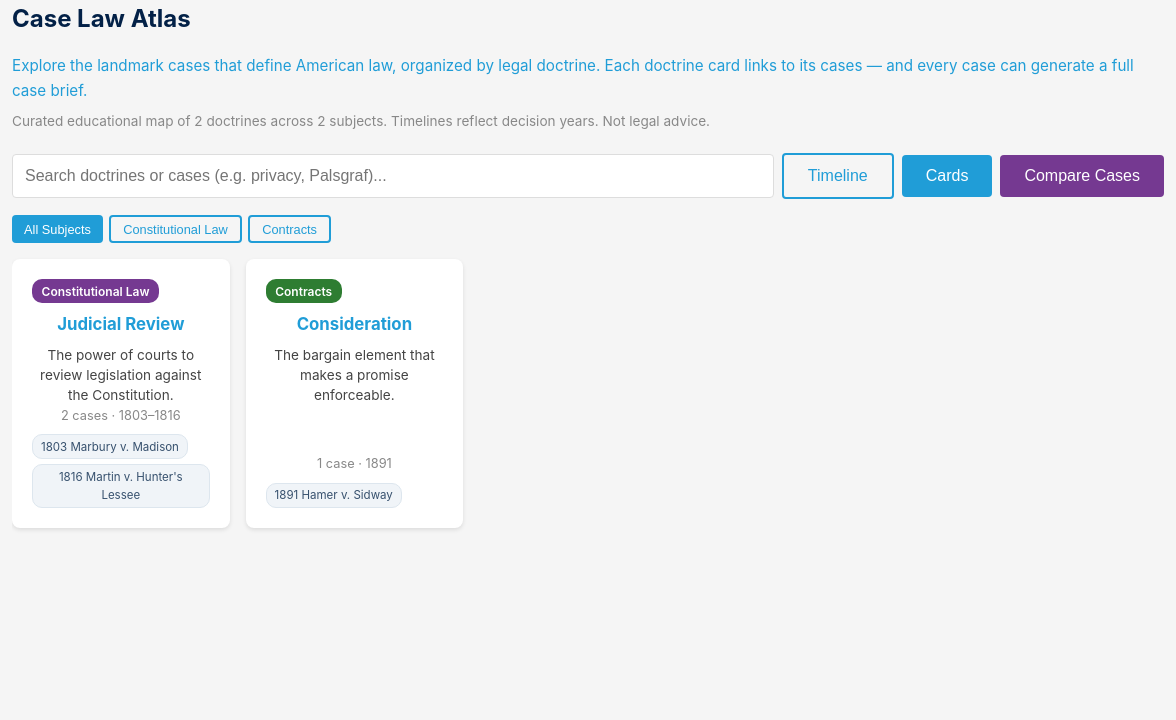
DoctrineExplorerView › filters doctrines by subject
Click the button "Contracts".
click(290, 229)  # box 248,215 -> 331,243
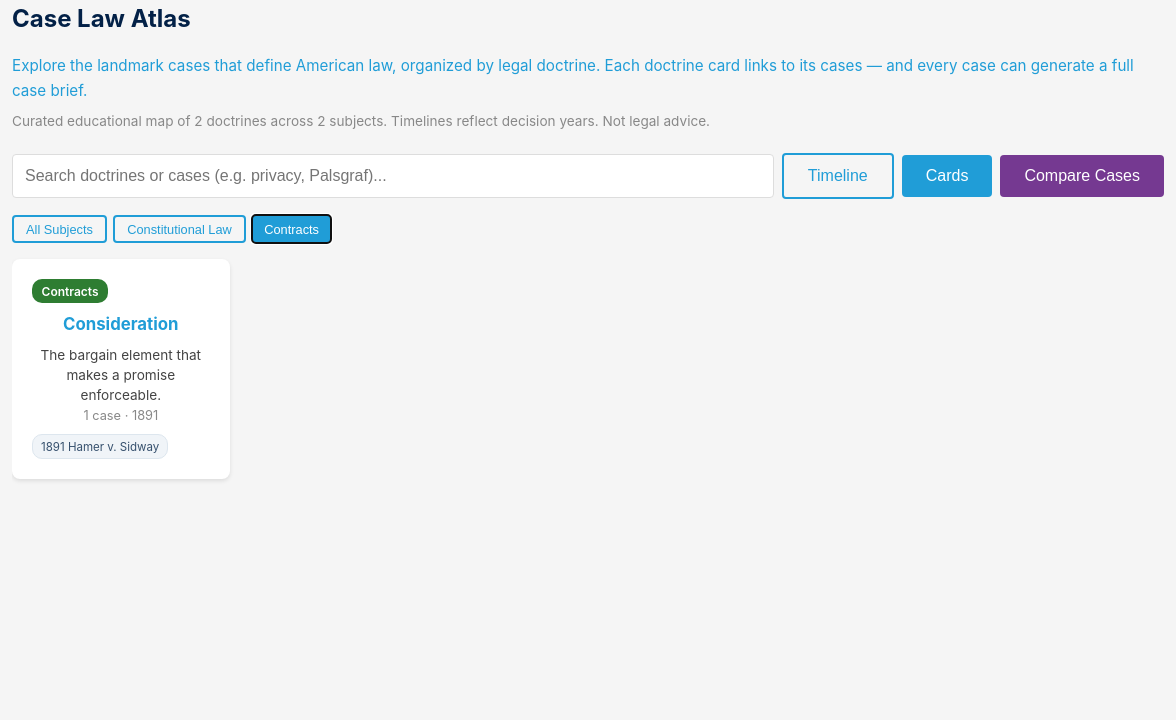
Expected: the heading "Consideration" is shown, 63,314 -> 179,334
Expected: the heading "Judicial Review" is gone
